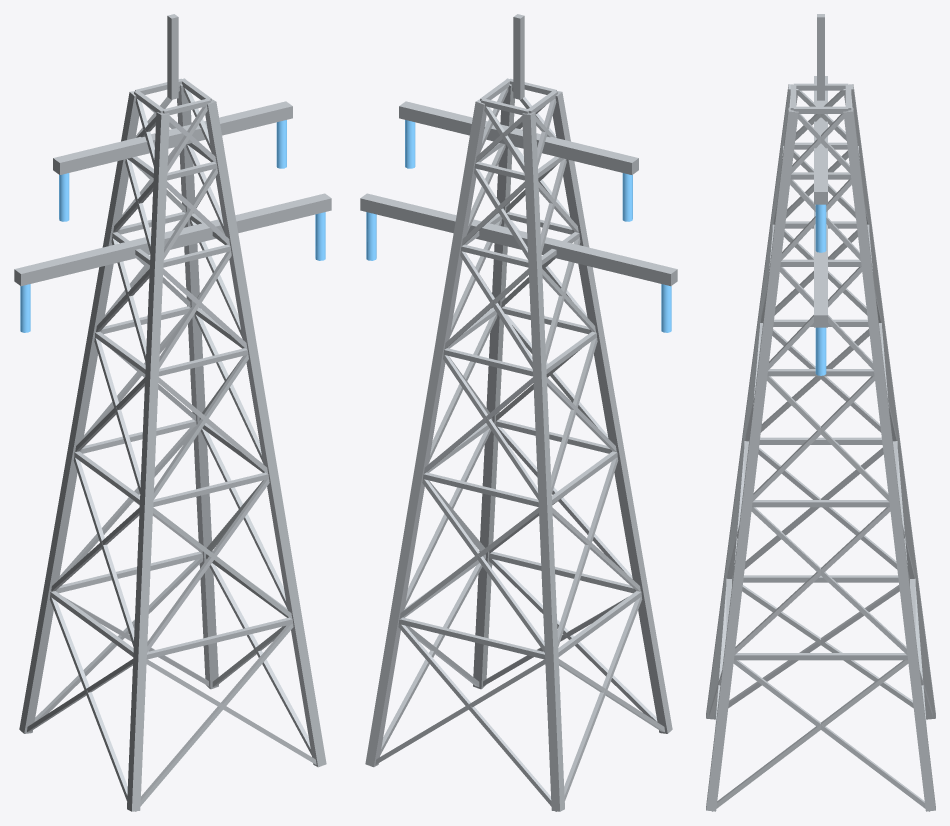
Rendered from grid-pylon.glb.
3 renders of one model, left to right at view 1: azimuth 30°, elevation 25°; view 2: azimuth 150°, elevation 25°; view 3: azimuth 270°, elevation 25°, orthographic. The views are drawn at different scales.
Parts seen in each view (by area): view 1: leg (×4), brace (×23), cross_arm (×2), ring (×7), peak; view 2: leg (×4), brace (×23), cross_arm (×2), ring (×7), peak; view 3: leg (×4), brace (×20), ring (×7), cross_arm (×2), insulator (×2), peak.
Part boxes in pixels (left/top/right/bottom): leg (×4): left=19, top=78, right=326, bottom=811; brace (×23): left=27, top=168, right=316, bottom=811; cross_arm (×2): left=14, top=101, right=331, bottom=286; ring (×7): left=50, top=348, right=293, bottom=659; peak: left=167, top=14, right=178, bottom=99; leg (×4): left=365, top=78, right=672, bottom=811; brace (×23): left=375, top=168, right=664, bottom=811; cross_arm (×2): left=360, top=101, right=677, bottom=286; ring (×7): left=398, top=348, right=641, bottom=659; peak: left=513, top=14, right=524, bottom=99; leg (×4): left=706, top=84, right=935, bottom=811; brace (×20): left=712, top=114, right=929, bottom=811; ring (×7): left=734, top=259, right=907, bottom=660; cross_arm (×2): left=814, top=76, right=827, bottom=327; insulator (×2): left=815, top=204, right=826, bottom=375; peak: left=817, top=14, right=824, bottom=100.
Size of the model in its own units: 8 by 18.04 by 5.02.
